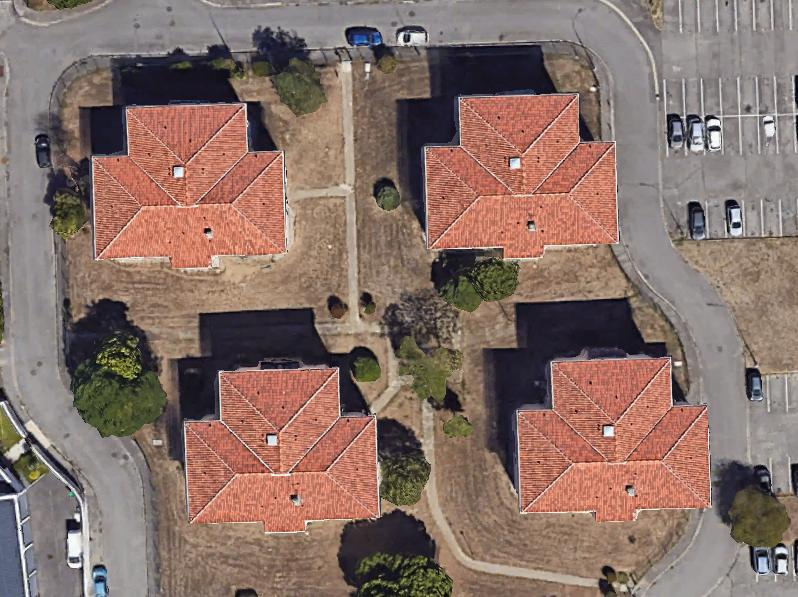maison: (181, 360, 380, 536), (510, 352, 710, 525), (90, 101, 291, 271), (423, 91, 618, 261)
